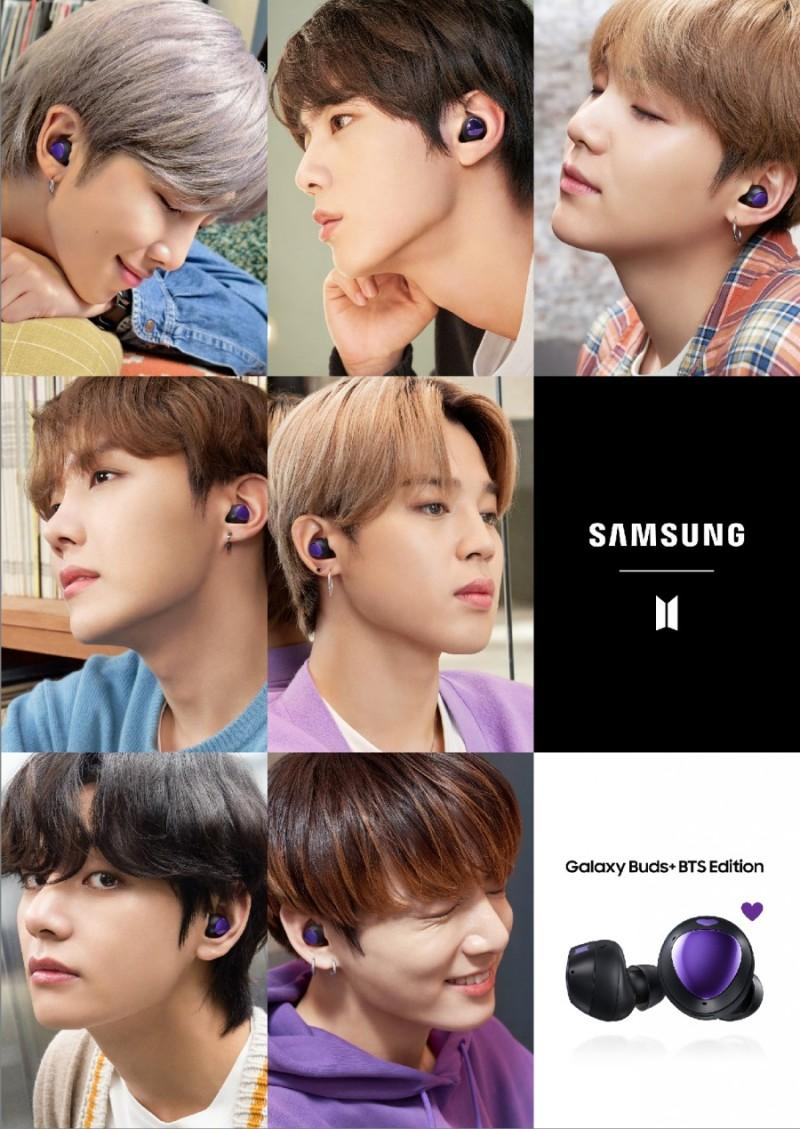earphone: (433, 93, 493, 156), (283, 908, 336, 956), (194, 896, 236, 951), (38, 129, 76, 178), (735, 177, 773, 223), (214, 489, 251, 533), (299, 527, 336, 563)
